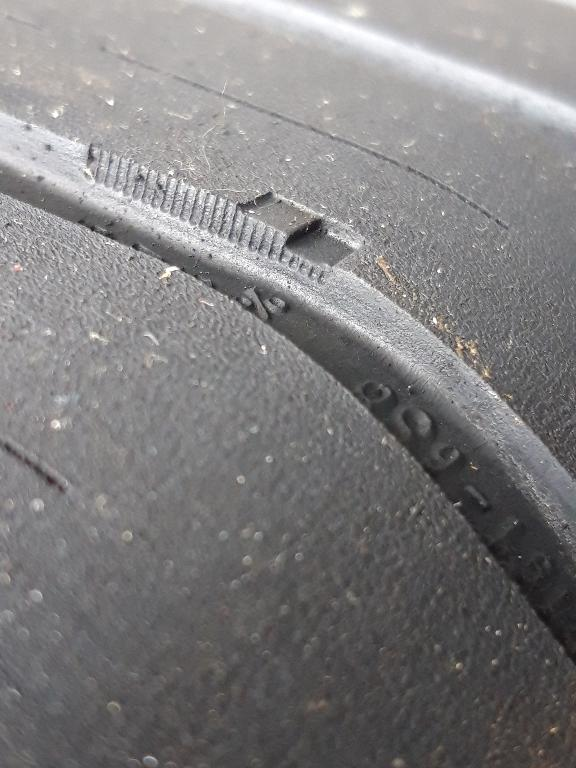temoin:25: (216, 179, 378, 299)
